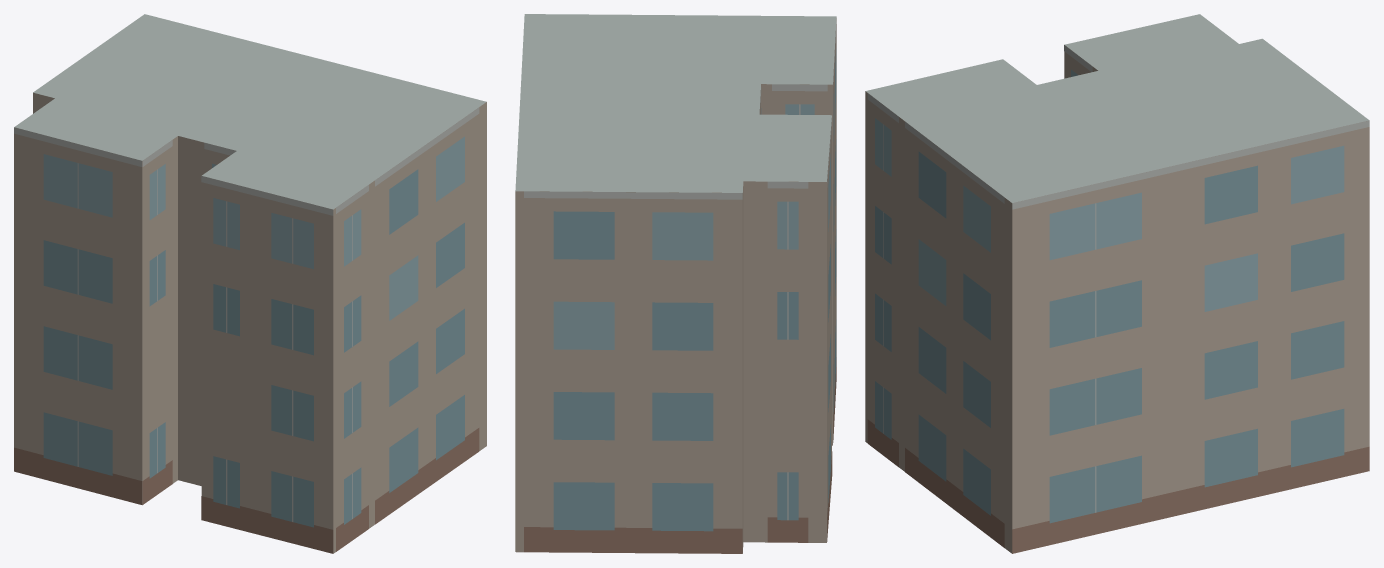
The model's file is survey-upis-32742423.glb.
3 views of the same model, side by side, from view 1: azimuth 30°, elevation 25°; view 2: azimuth 150°, elevation 25°; view 3: azimuth 270°, elevation 25° (orthographic). The views are drawn at different scales.
Visible parts, largest first — view 1: survey-upis-32742423.tmp; view 2: survey-upis-32742423.tmp; view 3: survey-upis-32742423.tmp.
Part boxes in pixels (x1=…): survey-upis-32742423.tmp: x1=14, y1=14, x2=486, y2=553; survey-upis-32742423.tmp: x1=515, y1=14, x2=836, y2=553; survey-upis-32742423.tmp: x1=865, y1=14, x2=1369, y2=553.
Bounding box in the file's own units: 15.13 × 13.07 × 17.04.
